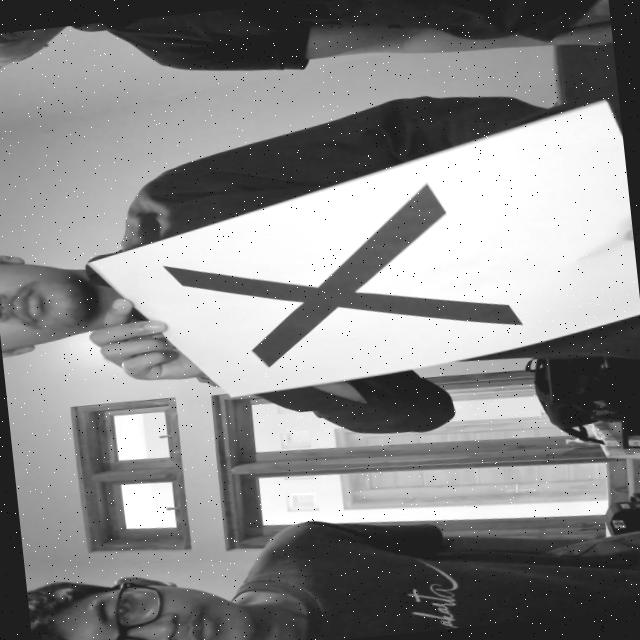x: (147, 168, 532, 407)
